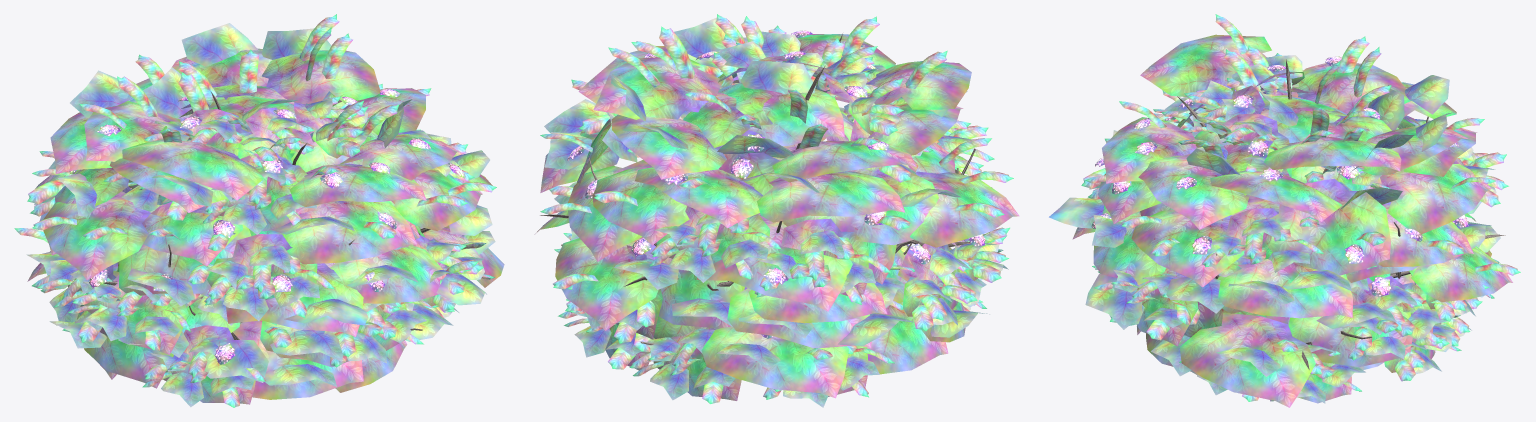
Rendered from elderberry_large_SM.fbx.
3 renders of one model, left to right at view 1: azimuth 30°, elevation 25°; view 2: azimuth 150°, elevation 25°; view 3: azimuth 270°, elevation 25°, orthographic. The views are drawn at different scales.
Parts seen in each view (by area): view 1: elderberry_large_SM_LOD0; view 2: elderberry_large_SM_LOD0; view 3: elderberry_large_SM_LOD0.
Boxes of the visible parts, x1,y1,x2,y2 form: elderberry_large_SM_LOD0: (14, 14, 504, 407); elderberry_large_SM_LOD0: (534, 14, 1019, 407); elderberry_large_SM_LOD0: (1049, 14, 1520, 407).
Bounding box in the file's own units: 563 × 531 × 349.
2 materials, 2 textured.
